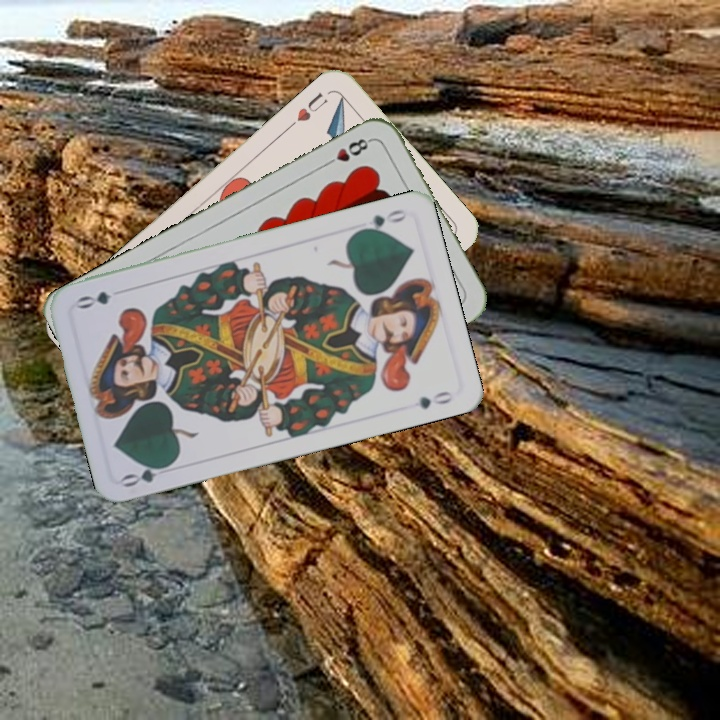GO: (118, 458, 175, 490), (353, 205, 410, 235)
H8: (320, 134, 374, 170)
HU: (284, 88, 331, 131)
